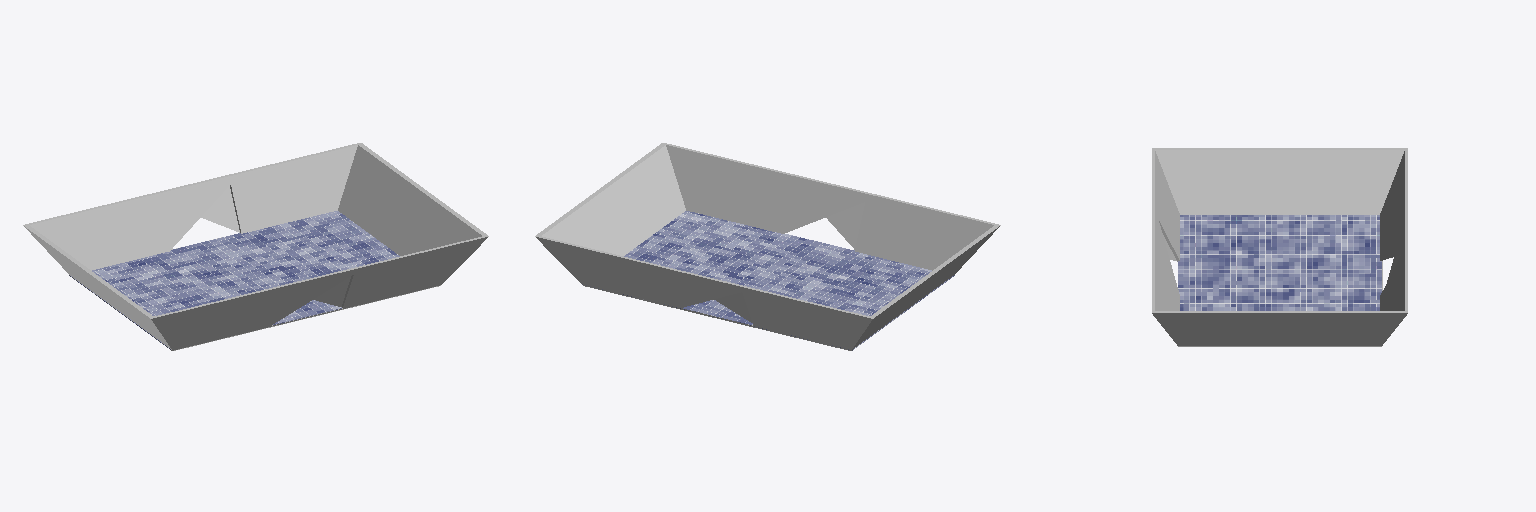
3 renders of one model, left to right at view 1: azimuth 30°, elevation 25°; view 2: azimuth 150°, elevation 25°; view 3: azimuth 270°, elevation 25°, orthographic.
Visible parts, largest first — view 1: Room2, Piso1; view 2: Room2, Piso1; view 3: Room2, Piso1.
Part boxes in pixels (x1,y1,x2,y2): Room2: (23,143,488,350); Piso1: (69,211,399,349); Room2: (535,143,1000,350); Piso1: (582,211,954,350); Room2: (1152,148,1407,346); Piso1: (1178,215,1381,310).
Bounding box in the file's own units: 35 × 5 × 23.
3 materials, 1 textured.